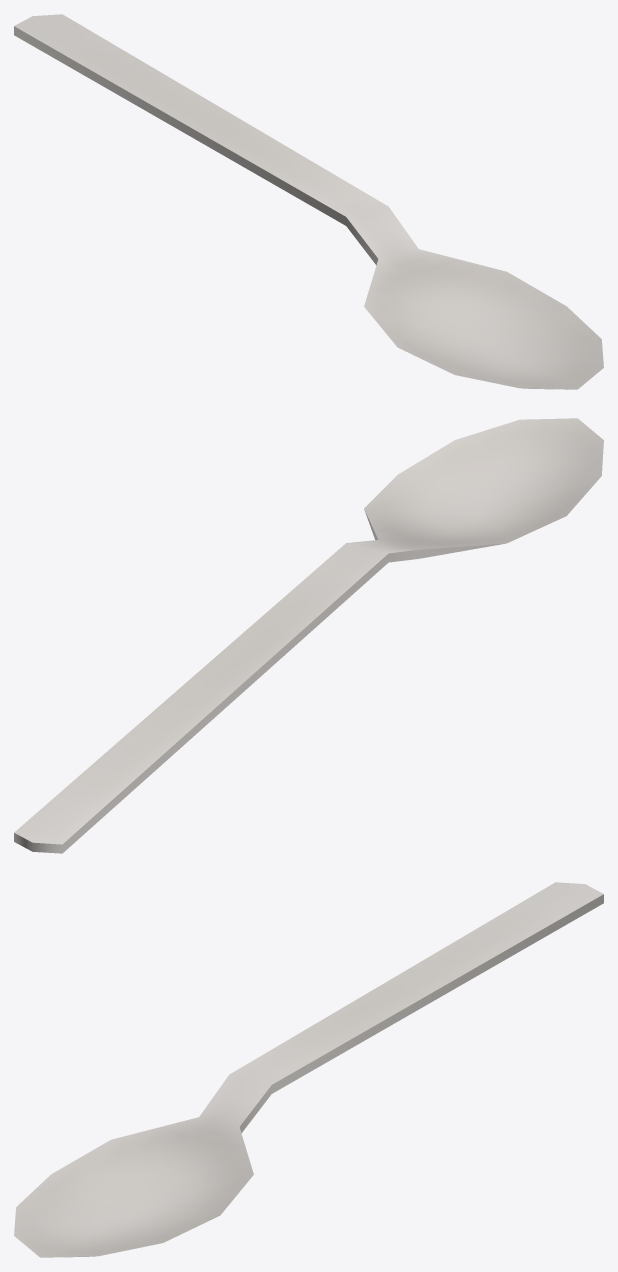
File: jsf_Spoon_01.fbx
The picture shows the model from 3 angles, top to bottom: view 1: azimuth 30°, elevation 25°; view 2: azimuth 150°, elevation 25°; view 3: azimuth 330°, elevation 25°; orthographic projection.
Visible parts, largest first — view 1: jsf_Spoon_01; view 2: jsf_Spoon_01; view 3: jsf_Spoon_01.
Part boxes in pixels (box(x1,y1,x2,y2)): jsf_Spoon_01: box(14, 14, 603, 389); jsf_Spoon_01: box(14, 418, 603, 853); jsf_Spoon_01: box(14, 882, 603, 1257).
Size of the model in its own units: 3.05 by 1.14 by 17.05.
